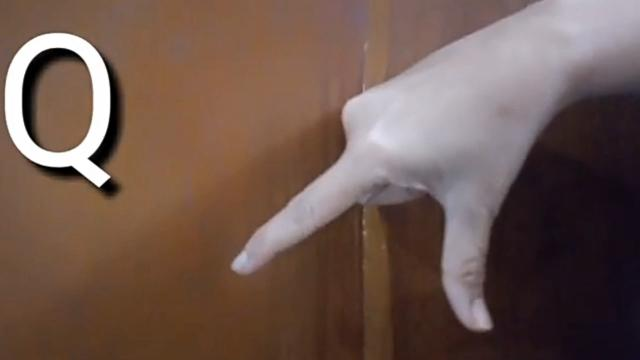Q: (214, 1, 594, 340)
